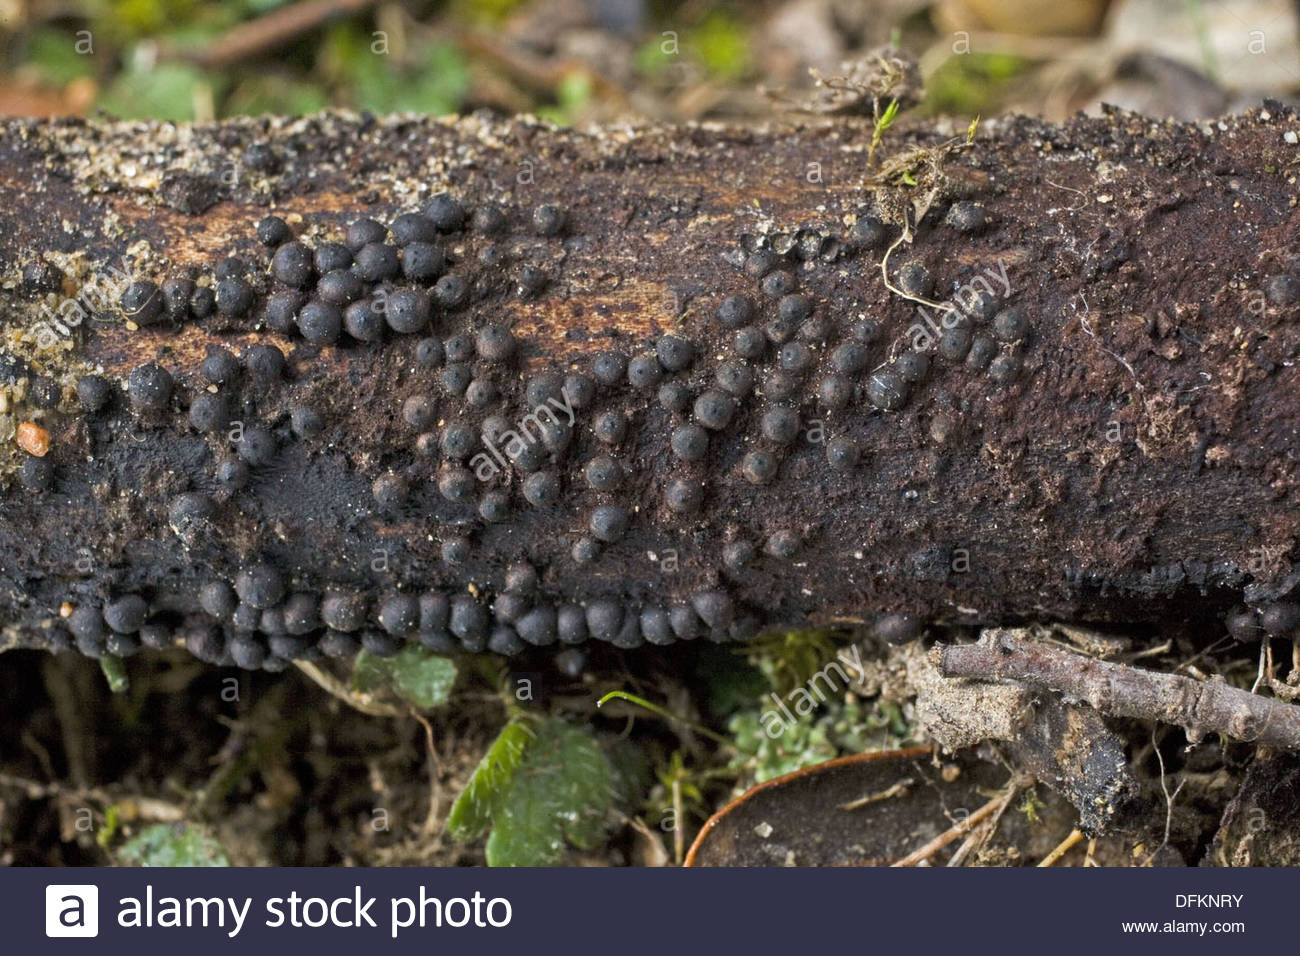pudricion radicular: (44, 97, 1276, 660)
